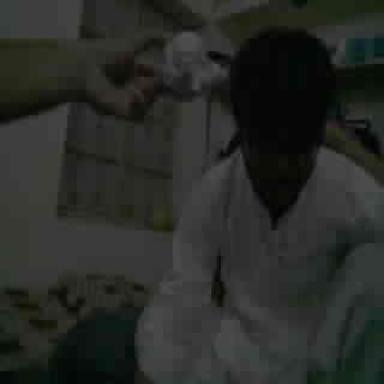paper: (158, 32, 227, 98)
